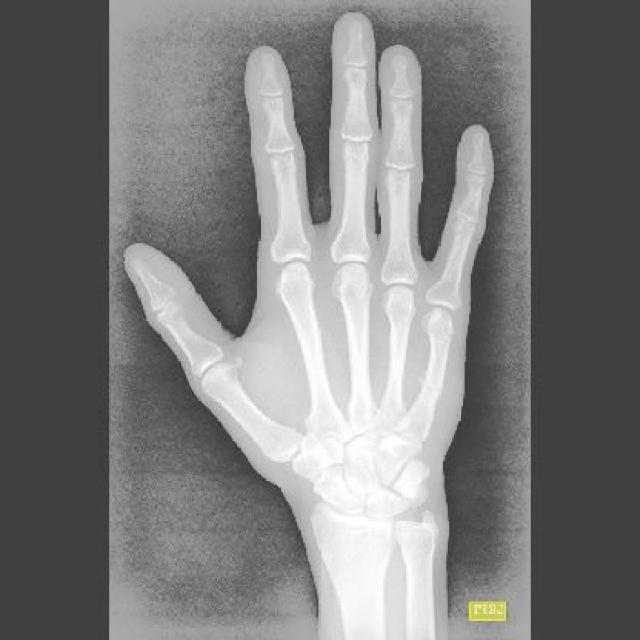Fracture: (420, 372, 449, 397)
